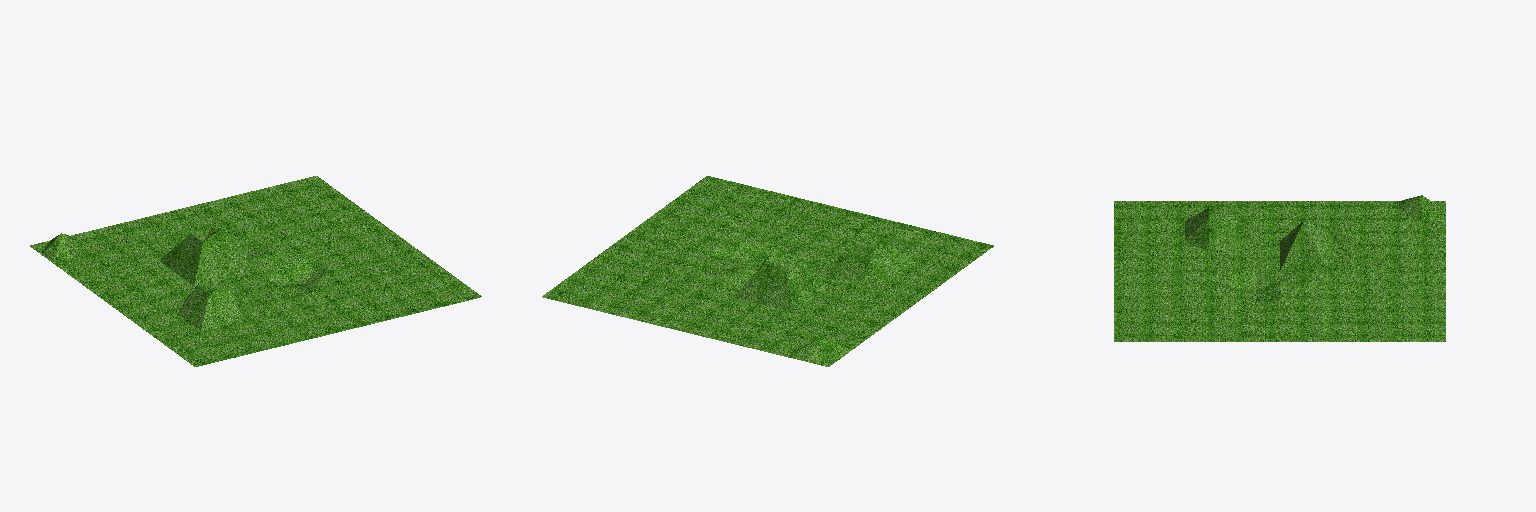
The picture shows the model from 3 angles: view 1: azimuth 30°, elevation 25°; view 2: azimuth 150°, elevation 25°; view 3: azimuth 270°, elevation 25°; orthographic projection.
Parts seen in each view (by area): view 1: cube; view 2: cube; view 3: cube.
Boxes of the visible parts, x1=… form: cube: x1=30, y1=176, x2=481, y2=366; cube: x1=542, y1=176, x2=993, y2=366; cube: x1=1114, y1=195, x2=1445, y2=341.
Bounding box in the file's own units: 224 × 37 × 224.
1 materials, 1 textured.